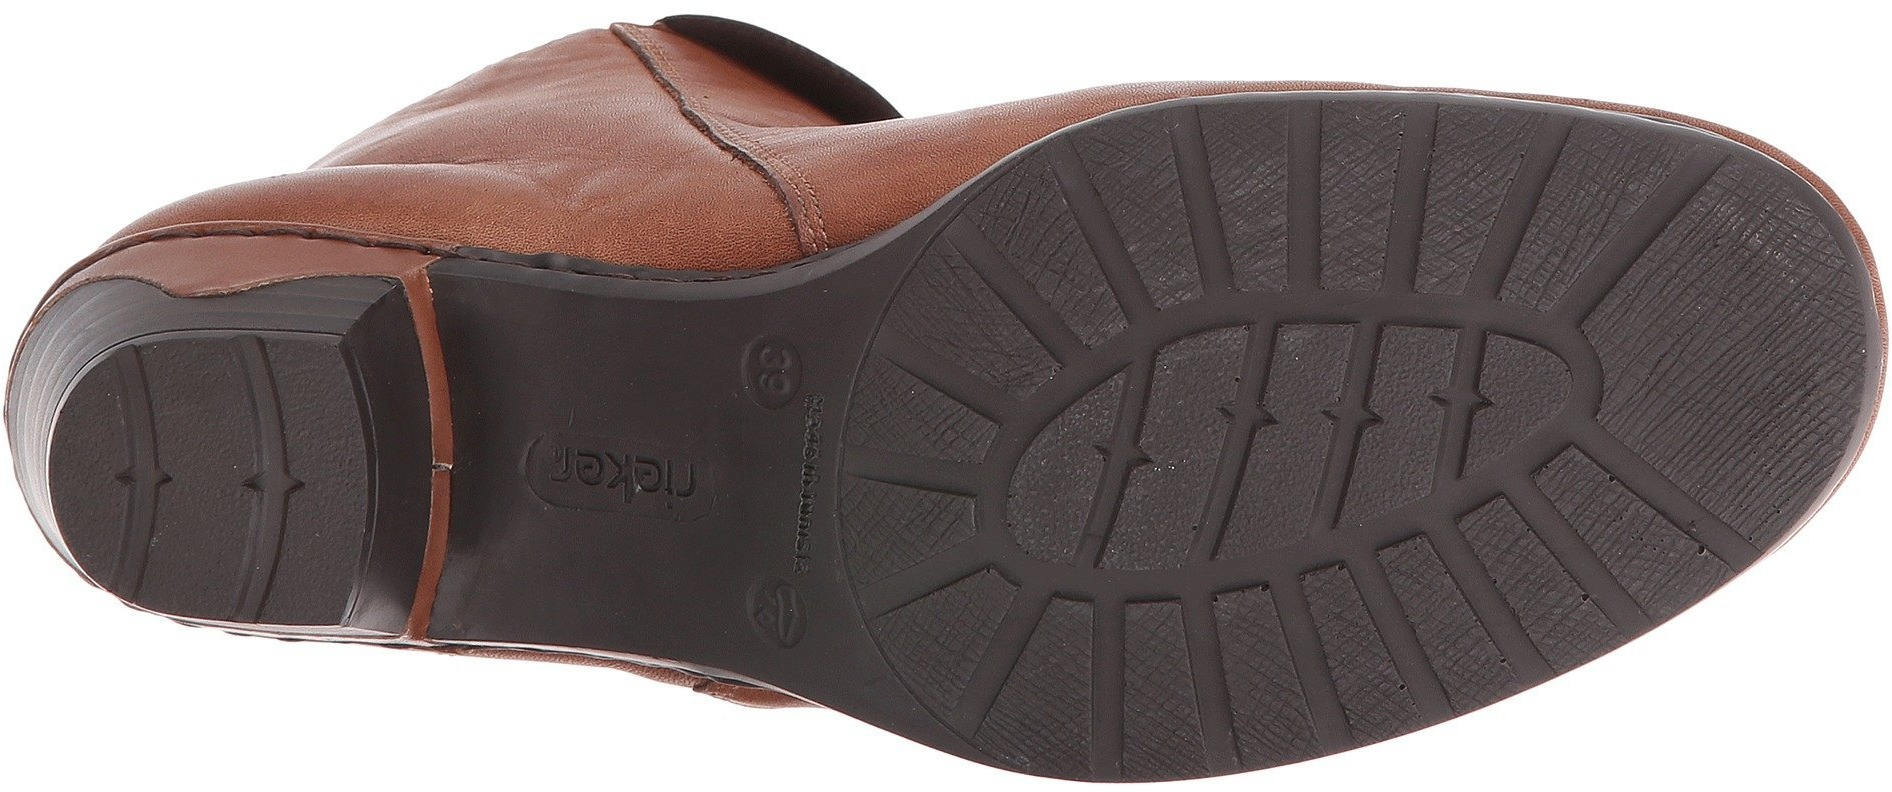bowtie: (1152, 299, 1419, 541)
circle: (725, 326, 818, 425)
quad: (813, 365, 1002, 602), (1139, 567, 1344, 734)
text: (529, 384, 712, 572), (723, 339, 786, 417)
